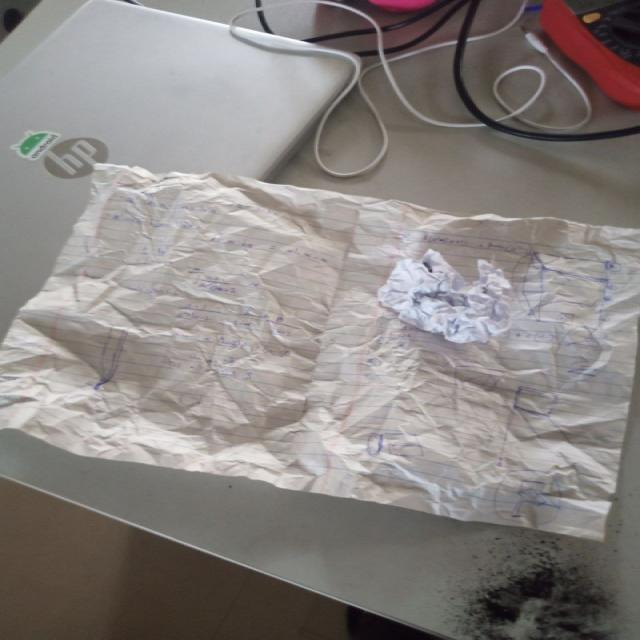Paper: (0, 160, 640, 543), (379, 249, 512, 345)
